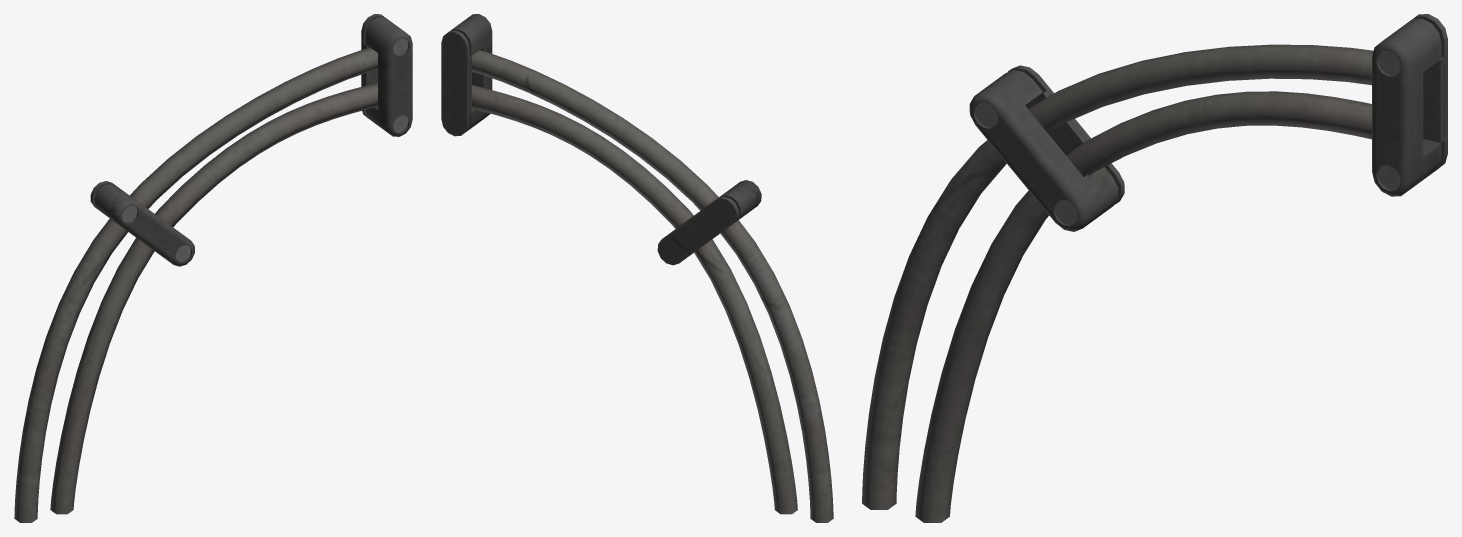
The model's file is cable_double_turn_long.gltf.
3 renders of one model, left to right at view 1: azimuth 30°, elevation 25°; view 2: azimuth 150°, elevation 25°; view 3: azimuth 330°, elevation 25°, orthographic. The views are drawn at different scales.
Visible parts, largest first — view 1: cable_double_turn_long; view 2: cable_double_turn_long; view 3: cable_double_turn_long.
Boxes of the visible parts, x1,y1,x2,y2 form: cable_double_turn_long: [14, 14, 412, 522]; cable_double_turn_long: [441, 14, 833, 522]; cable_double_turn_long: [862, 14, 1447, 522].
Bounding box in the file's own units: 0.212 × 0.2178 × 0.0259.
Materials: 1 (1 with a texture image).
